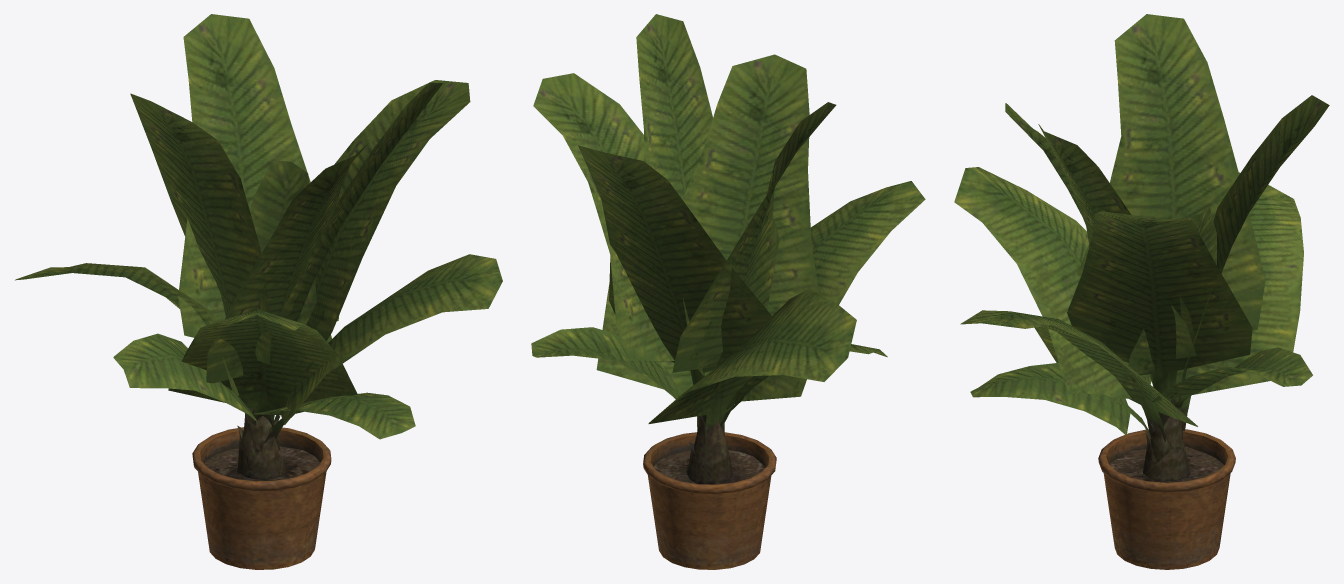
File: sm10_001_indoorplant01a.fbx
3 renders of one model, left to right at view 1: azimuth 30°, elevation 25°; view 2: azimuth 150°, elevation 25°; view 3: azimuth 270°, elevation 25°, orthographic. The views are drawn at different scales.
Visible parts, largest first — view 1: LOD_1_Group_0_Sub_1__sm10_001_IndoorPlant01A_A_Mat; view 2: LOD_1_Group_0_Sub_1__sm10_001_IndoorPlant01A_A_Mat; view 3: LOD_1_Group_0_Sub_1__sm10_001_IndoorPlant01A_A_Mat.
Boxes of the visible parts, x1,y1,x2,y2 form: LOD_1_Group_0_Sub_1__sm10_001_IndoorPlant01A_A_Mat: (15, 14, 502, 569); LOD_1_Group_0_Sub_1__sm10_001_IndoorPlant01A_A_Mat: (531, 14, 925, 569); LOD_1_Group_0_Sub_1__sm10_001_IndoorPlant01A_A_Mat: (954, 14, 1329, 569).
Bounding box in the file's own units: 1.25 × 1.51 × 1.08.
